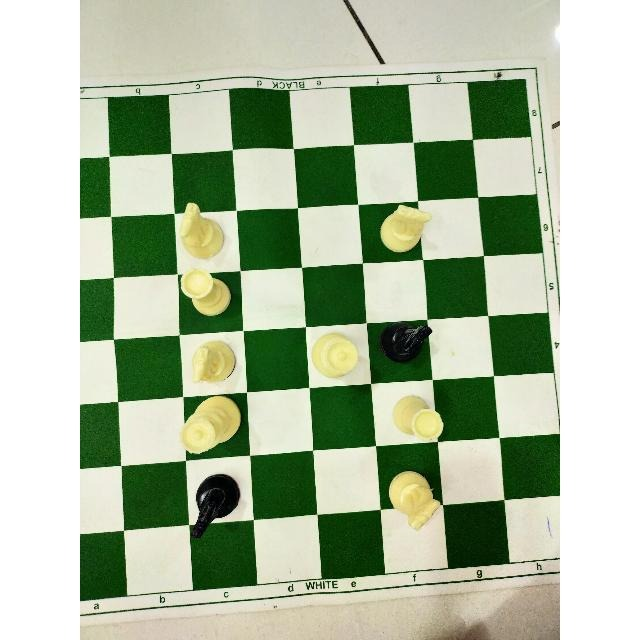black-knight: (187, 471, 242, 541), (377, 318, 435, 366)
white-knight: (384, 467, 443, 533), (177, 200, 227, 262), (378, 200, 434, 255), (188, 337, 237, 389)
white-queen: (177, 392, 245, 457), (309, 330, 361, 382)
white-rook: (177, 265, 234, 319), (389, 392, 446, 445)
